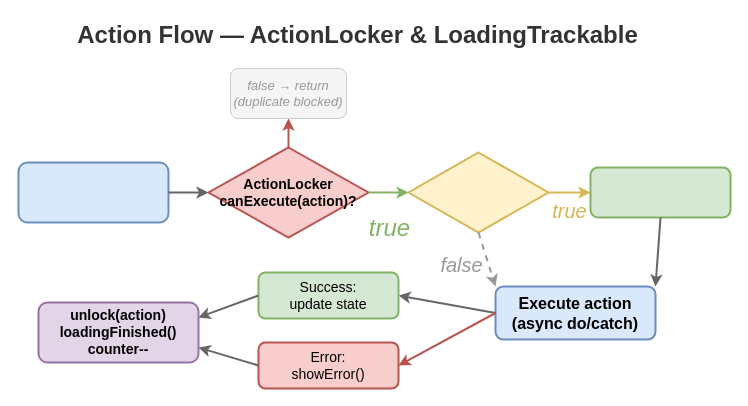
This 748x406 diagram has some shape labels left out. The shapes that lost their labels are listed below. From the top down, each one's centre as x and y in pixels, then its label:
(x=93, y=192): View dispatches receive(action:)
(x=478, y=192): canTrackLoading?
(x=660, y=192): loadingStarted() counter++
